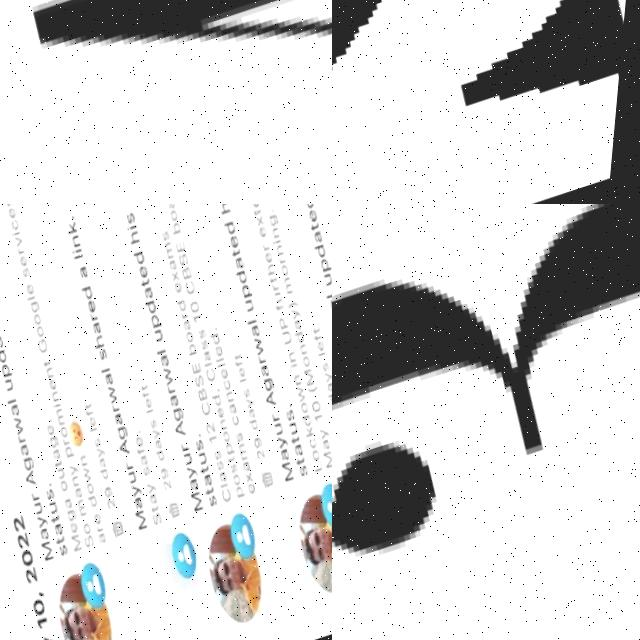0: (41, 596, 59, 617), (29, 549, 44, 567), (194, 301, 206, 314), (317, 401, 329, 414)
1: (47, 617, 61, 631), (215, 436, 226, 446), (197, 314, 208, 324), (320, 414, 331, 424)
2: (33, 566, 49, 584), (24, 531, 40, 549), (21, 515, 36, 533), (211, 422, 224, 435), (169, 479, 181, 491), (263, 448, 275, 460), (115, 497, 124, 508)
3: (332, 204, 640, 600)
9: (111, 485, 123, 498), (167, 467, 179, 480), (260, 436, 272, 449)
S: (332, 0, 640, 204)
